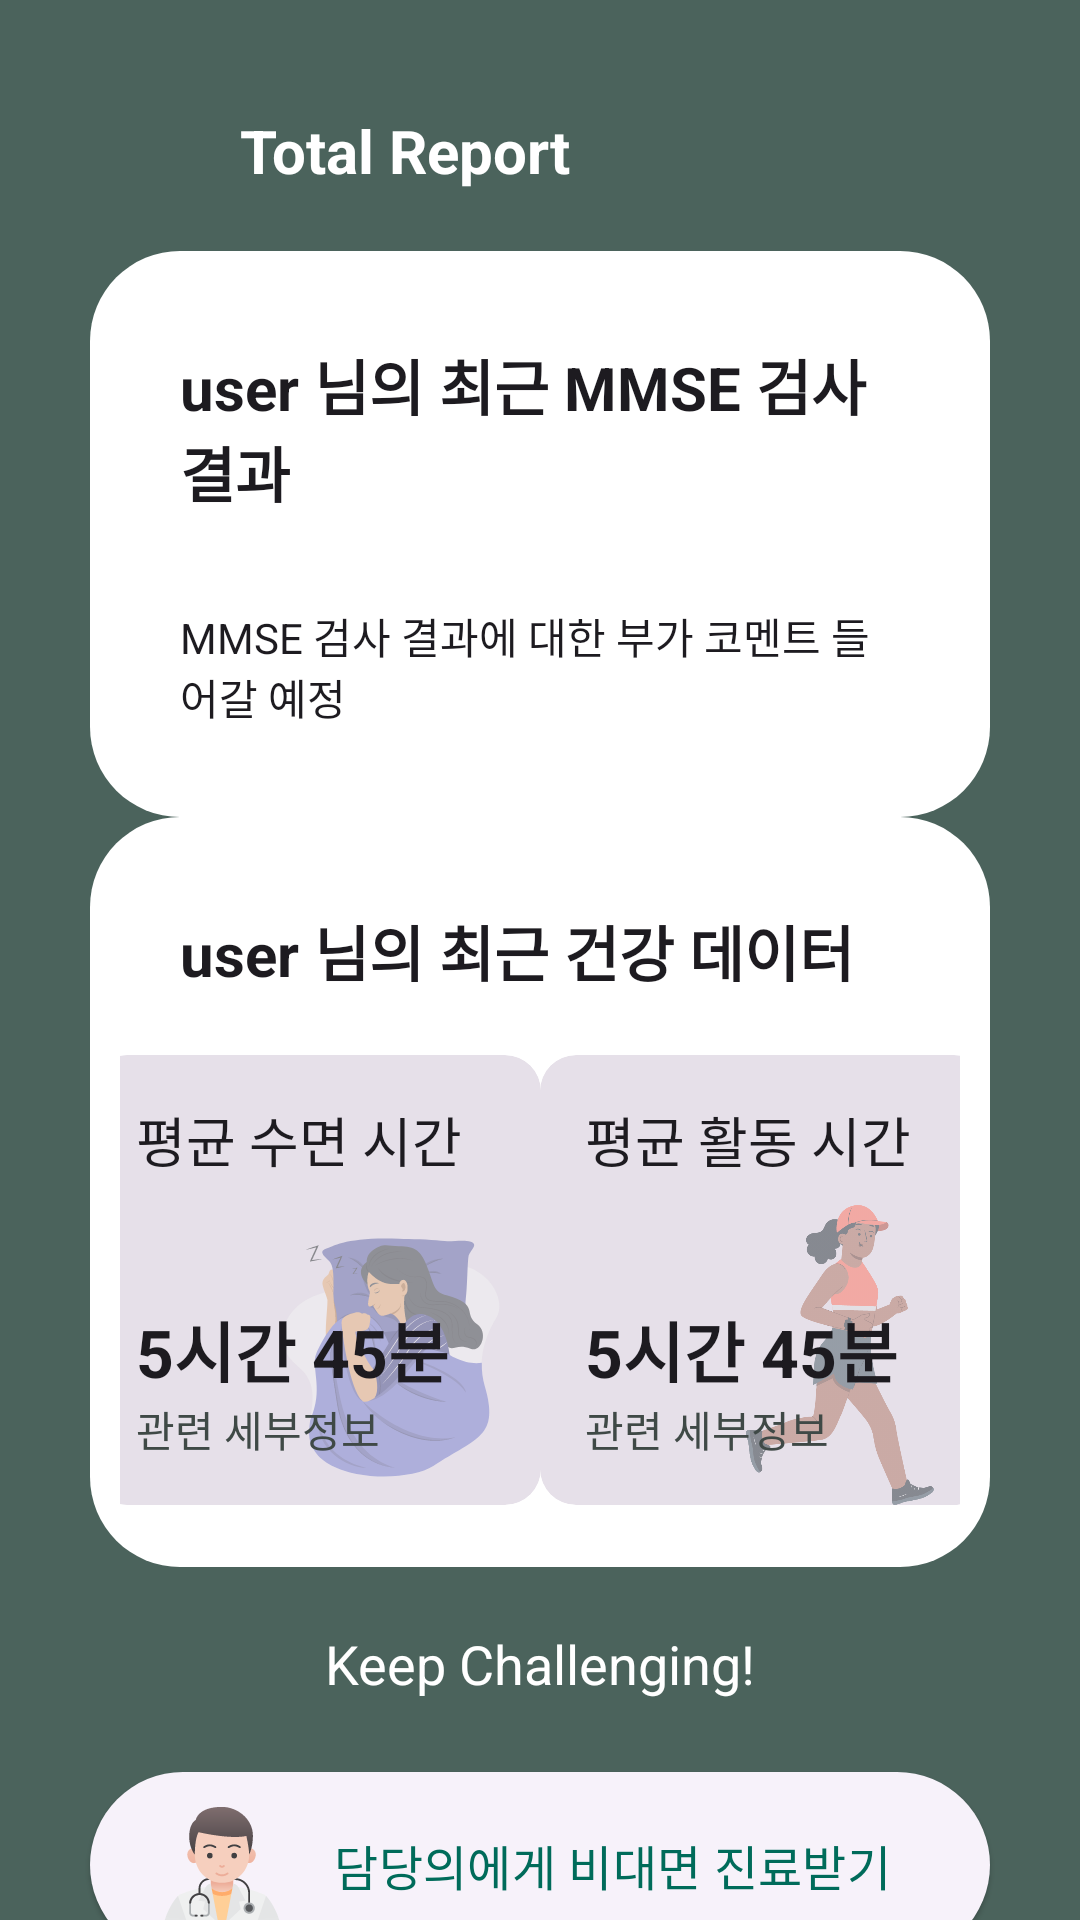

Where to tap for icons on this 1080w x 1920h app screen, as point (x, y):
running: point (840, 1355)
